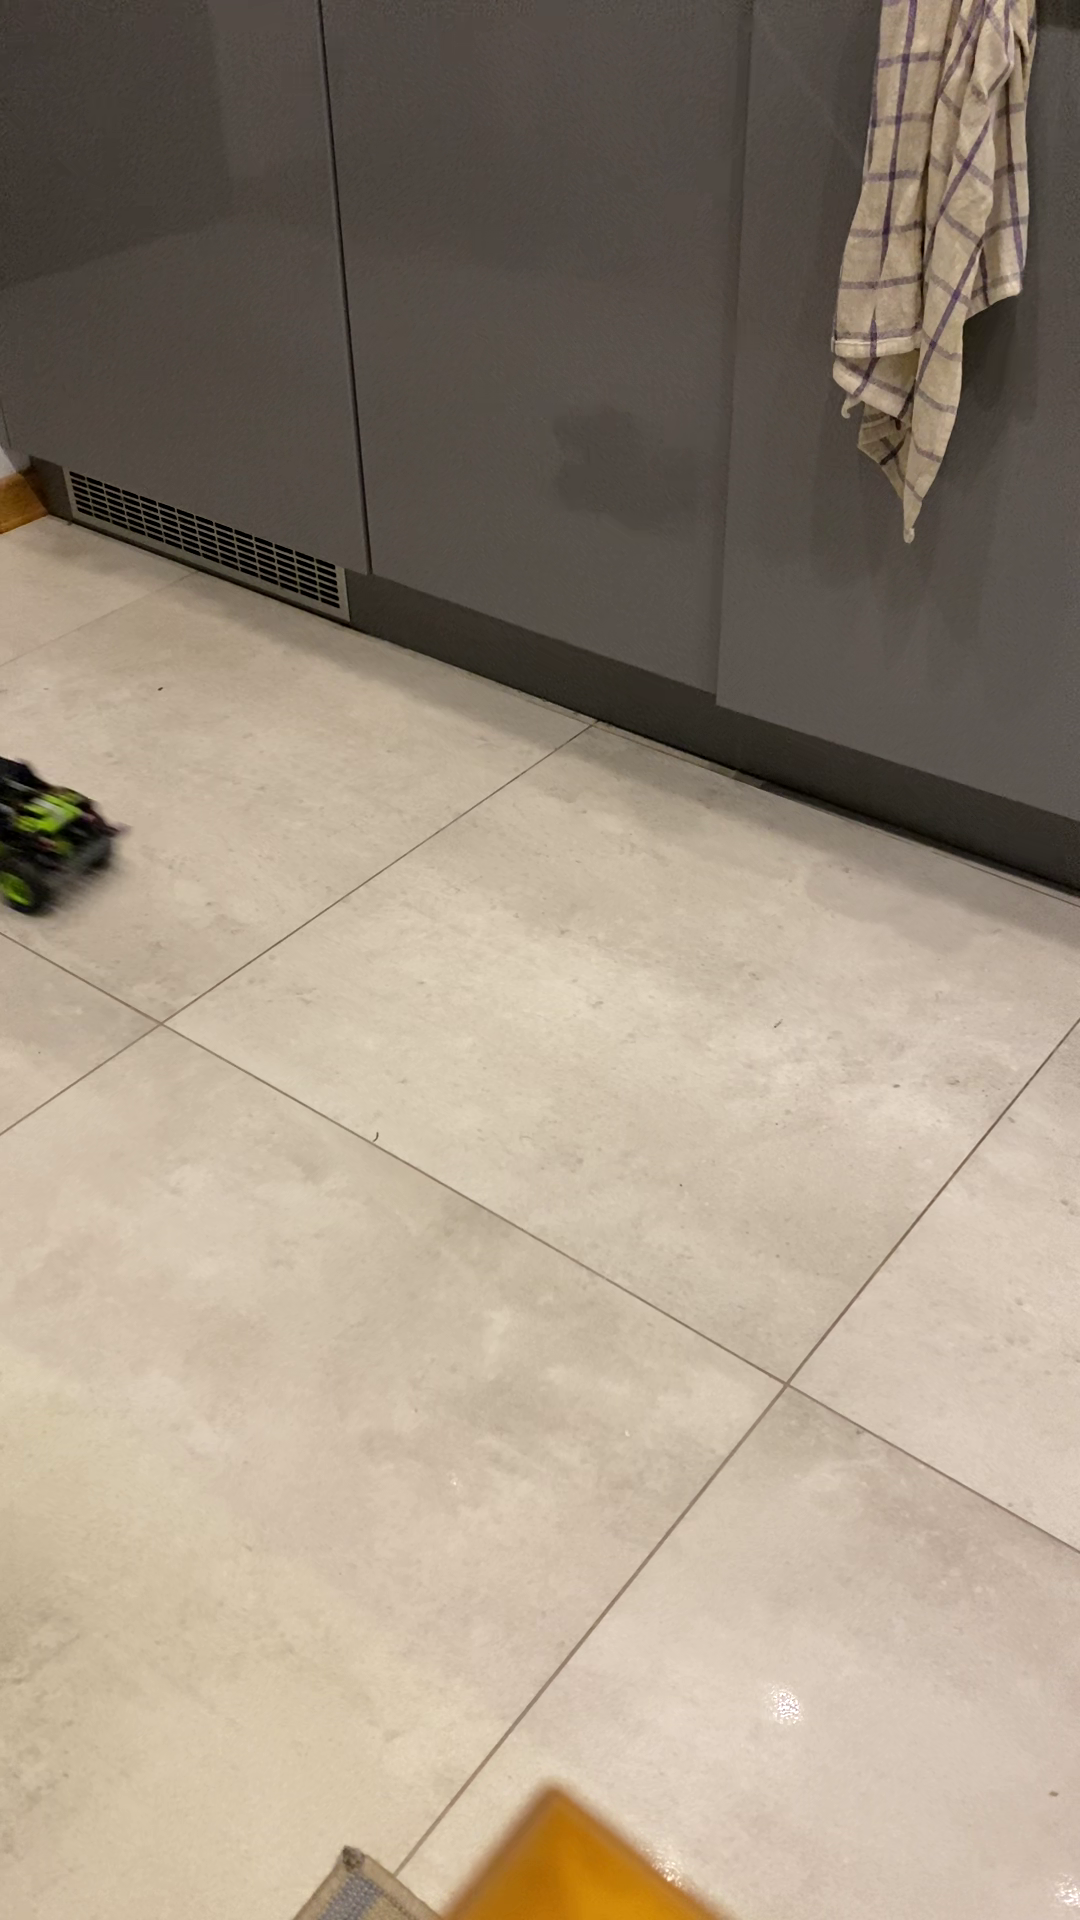car: (4, 761, 137, 922)
